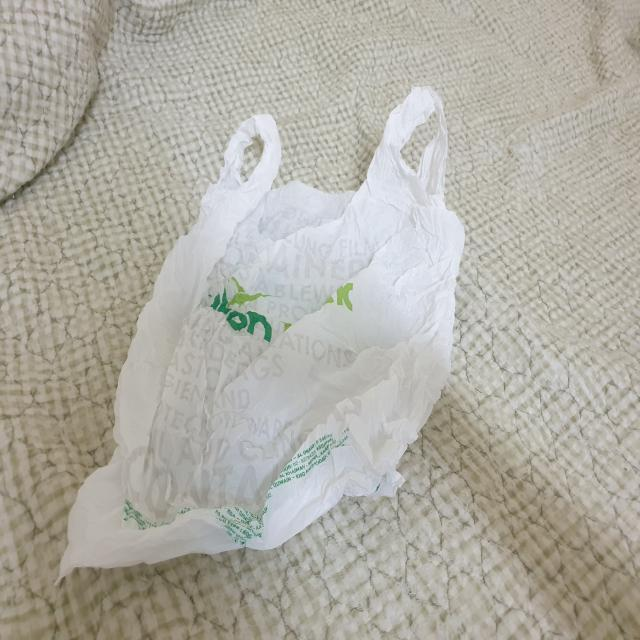plastic: (52, 92, 463, 579)
